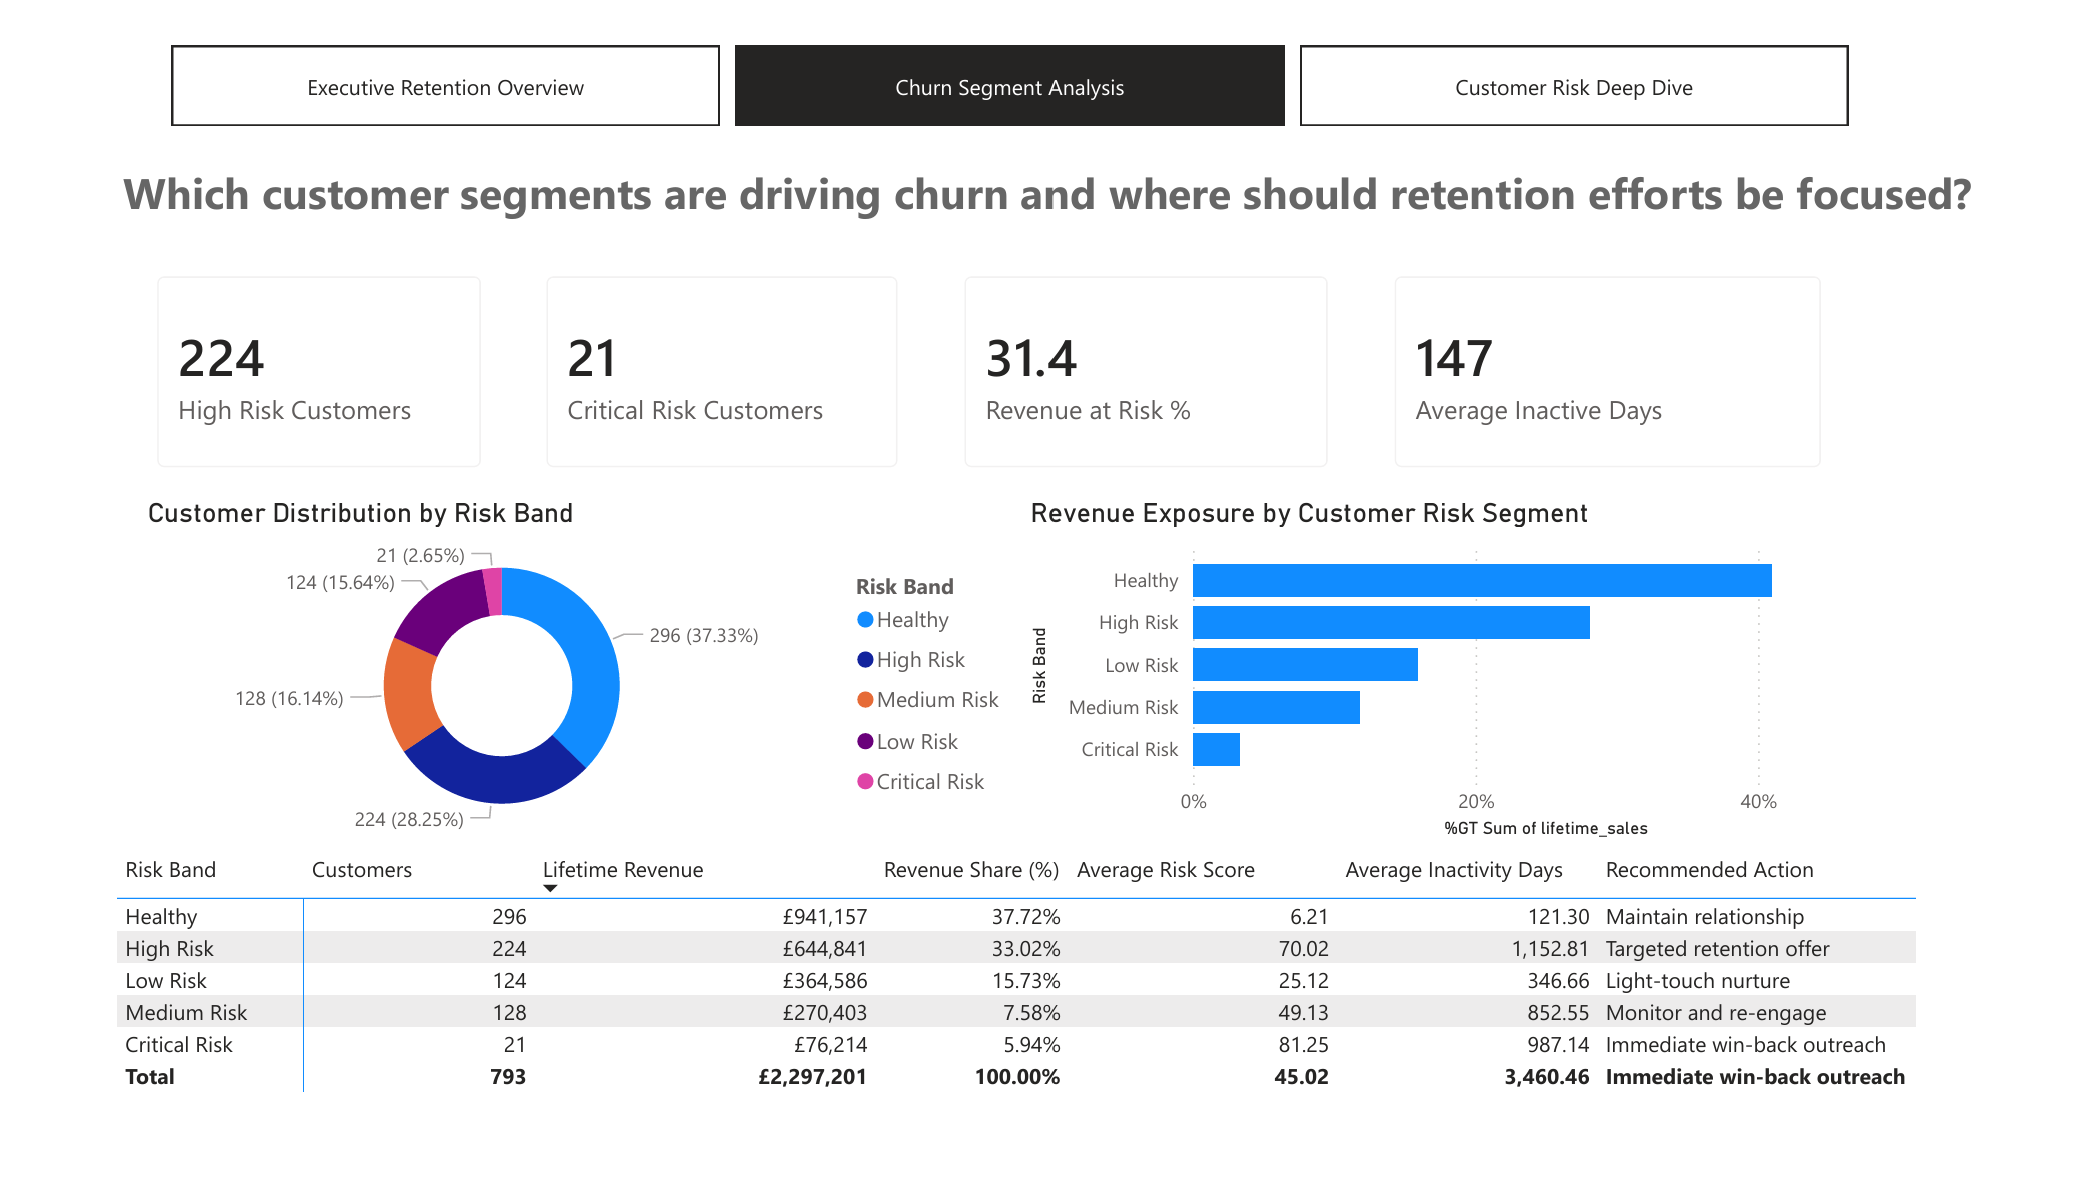

Layout of this report page (visuals, bound fields, positions):
{"tool":"powerbi","page":{"name":"Churn Segment Analysis","canvas":[1280,720],"ordinal":1},"visuals":[{"type":"pageNavigator","box":[97.1,9.1,1046.4,50],"z":0},{"type":"textbox","box":[56.1,77.3,1175.4,59.1],"z":1000},{"type":"cardVisual","fields":{"Data":["Sum(churn_segment_summary.customer_count)"]},"box":[71.3,136.5,236.6,153.2],"z":4002},{"type":"donutChart","title":"Customer Distribution by Risk Band","fields":{"Y":["Sum(churn_segment_summary.customer_count)"],"Category":["churn_segment_summary.churn_risk_band"]},"box":[77.3,289.7,550.5,218.4],"z":4003},{"type":"cardVisual","fields":{"Data":["Sum(churn_segment_summary.customer_count)"]},"box":[313.9,136.5,253.3,153.2],"z":4005},{"type":"cardVisual","fields":{"Data":["Sum(churn_kpi_summary.revenue_at_high_risk_pct)"]},"box":[574.8,136.5,260.9,153.2],"z":4007},{"type":"cardVisual","fields":{"Data":["Avg(churn_kpi_summary.avg_days_since_last_order)"]},"box":[843.2,136.5,300.3,153.2],"z":4008},{"type":"clusteredBarChart","title":"Revenue Exposure by Customer Risk Segment","fields":{"Y":["Sum(churn_segment_summary.lifetime_sales)"],"Category":["churn_segment_summary.churn_risk_band"]},"box":[627.9,289.7,564.2,218.4],"z":4009},{"type":"pivotTable","fields":{"Rows":["churn_segment_summary.churn_risk_band"],"Values":["Sum(churn_segment_summary.customer_count)","Sum(churn_segment_summary.lifetime_sales)","Sum(churn_segment_summary.lifetime_profit)","Avg(churn_segment_summary.avg_churn_risk_score)","Sum(churn_segment_summary.avg_days_since_last_order)","Min(churn_segment_summary.recommended_retention_action)"]},"box":[57.6,508.1,1222.4,212.3],"z":4010}]}

Visuals, with their boxes in screenshot pixels (x1, y1, x2, y2), scaled from the page's 1280x720 canvas onto the 2098x1198 screenshot:
pageNavigator: 159, 15, 1874, 98
textbox: 92, 129, 2019, 227
cardVisual - Sum(churn_segment_summary.customer_count): 117, 227, 505, 482
"Customer Distribution by Risk Band" donutChart: 127, 482, 1029, 845
cardVisual - Sum(churn_segment_summary.customer_count): 515, 227, 930, 482
cardVisual - Sum(churn_kpi_summary.revenue_at_high_risk_pct): 942, 227, 1370, 482
cardVisual - Avg(churn_kpi_summary.avg_days_since_last_order): 1382, 227, 1874, 482
"Revenue Exposure by Customer Risk Segment" clusteredBarChart: 1029, 482, 1954, 845
pivotTable - churn_segment_summary.churn_risk_band x Sum(churn_segment_summary.customer_count): 94, 845, 2097, 1197
